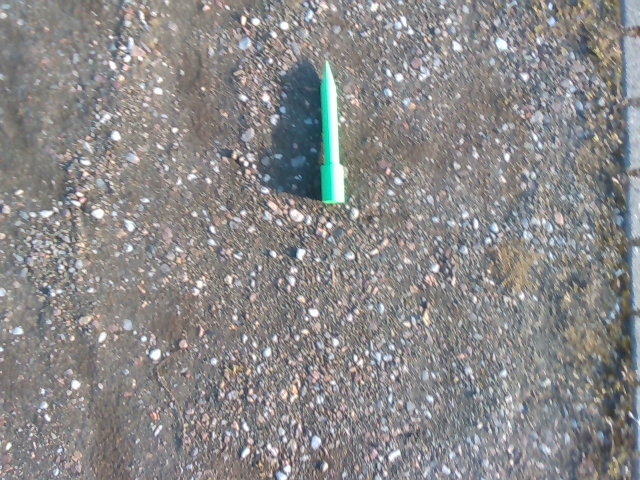Probe: (314, 47, 350, 210)
